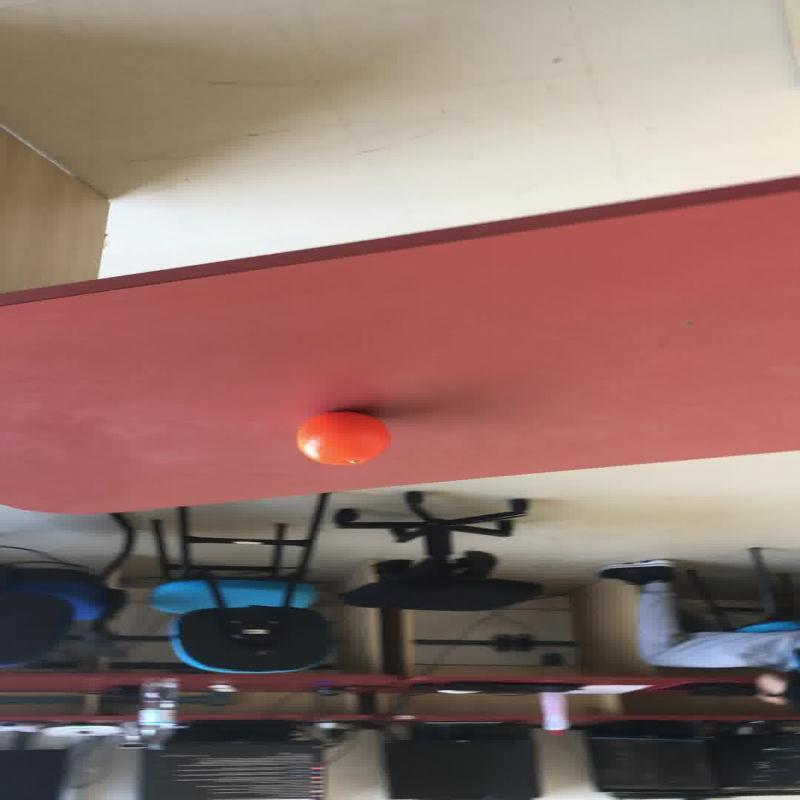orange: (294, 410, 390, 466)
